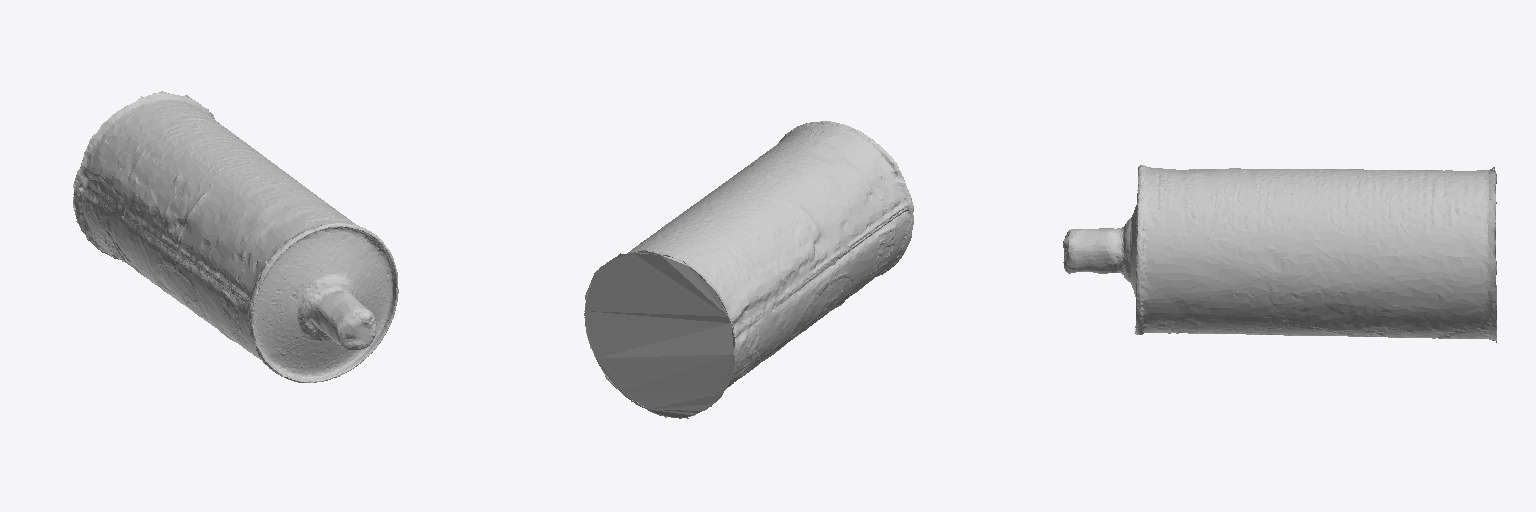
Rendered from 2010-46-1-29(lowerPoly).obj.
3 views of the same model, side by side, from view 1: azimuth 30°, elevation 25°; view 2: azimuth 150°, elevation 25°; view 3: azimuth 270°, elevation 25° (orthographic).
Visible parts, largest first — view 1: 2010-46-1-2; view 2: 2010-46-1-2; view 3: 2010-46-1-2.
Part boxes in pixels (x1,y1,x2,y2): 2010-46-1-2: (73, 91, 398, 382); 2010-46-1-2: (584, 121, 913, 418); 2010-46-1-2: (1063, 165, 1496, 342).
Size of the model in its own units: 15.57 by 16.1 by 38.54.